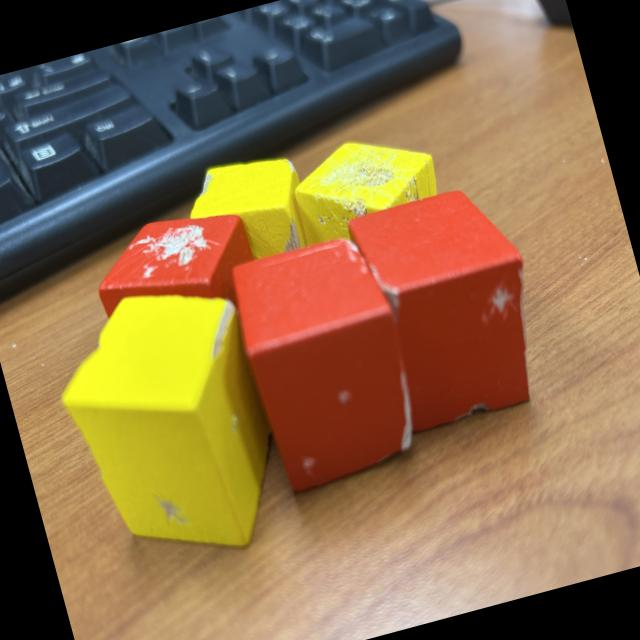broken: (39, 268, 300, 582), (342, 177, 560, 435), (224, 228, 432, 497), (84, 198, 288, 422), (178, 146, 328, 318), (286, 119, 447, 249)
